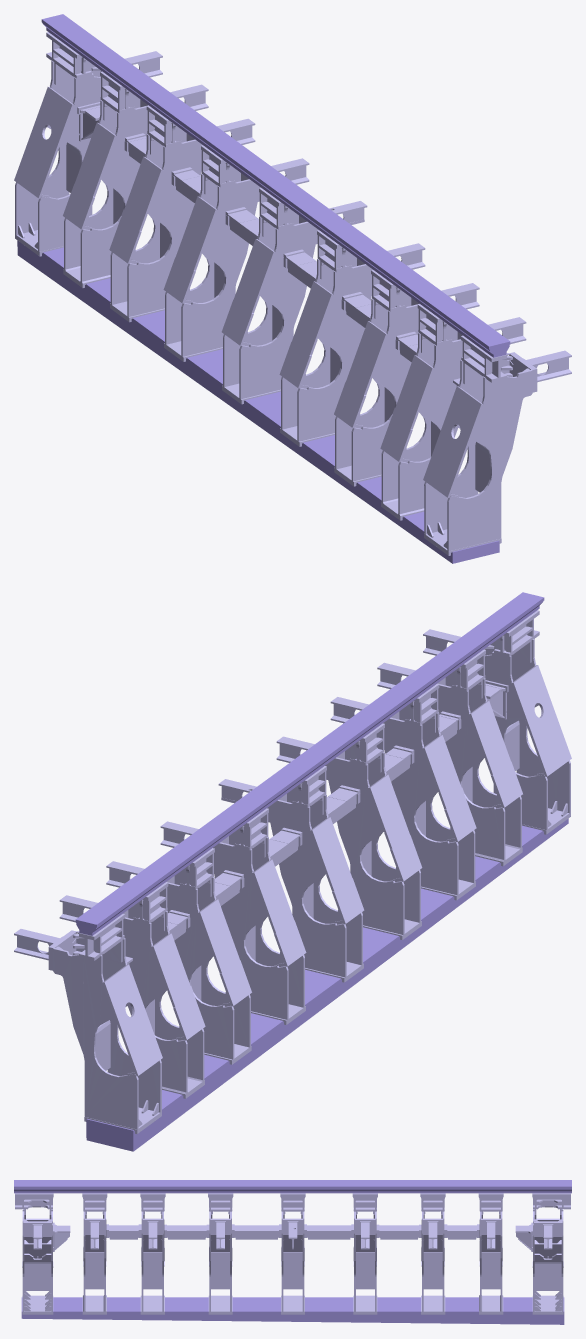
File: Feet-cut2.glb
3 renders of one model, top to bottom at view 1: azimuth 30°, elevation 25°; view 2: azimuth 150°, elevation 25°; view 3: azimuth 270°, elevation 25°, orthographic. The views are drawn at different scales.
Parts seen in each view (by area): view 1: null; view 2: null; view 3: null.
Part boxes in pixels (box(x1,y1,x2,y2)): null: box(14, 14, 571, 563); null: box(14, 592, 571, 1151); null: box(14, 1180, 571, 1324).
Bounding box in the file's own units: 4.55 × 7.3 × 26.42.
